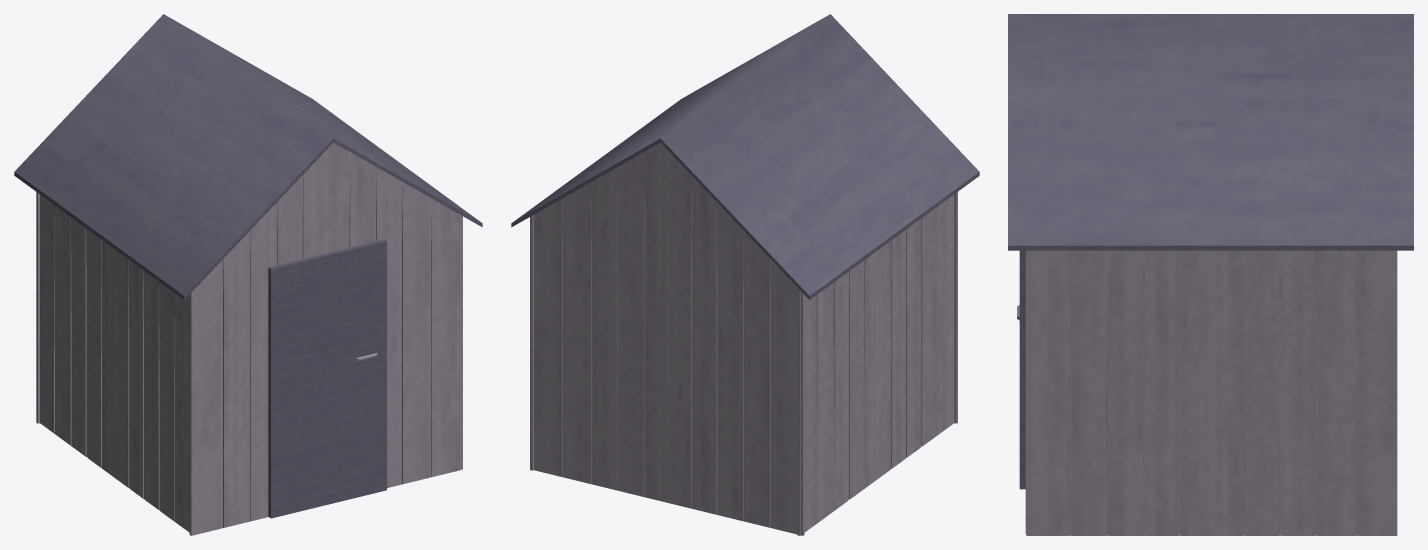
File: Shed.fbx
3 views of the same model, side by side, from view 1: azimuth 30°, elevation 25°; view 2: azimuth 150°, elevation 25°; view 3: azimuth 270°, elevation 25° (orthographic). The views are drawn at different scales.
Visible parts, largest first — view 1: Shed_front, Shed_top, Shed_left, Shed_door, Shed_back, Shed_right; view 2: Shed_back, Shed_top, Shed_left, Shed_right, Shed_front; view 3: Shed_right, Shed_top, Shed_door, Shed_front.
Boxes of the visible parts, x1,y1,x2,y2 form: Shed_front: (189, 142, 460, 535); Shed_top: (14, 14, 482, 299); Shed_left: (40, 195, 189, 532); Shed_door: (268, 239, 386, 518); Shed_back: (36, 192, 39, 423); Shed_right: (460, 215, 462, 469); Shed_back: (534, 142, 804, 535); Shed_top: (511, 14, 979, 299); Shed_left: (797, 194, 954, 535); Shed_right: (530, 215, 533, 470); Shed_front: (954, 192, 957, 423); Shed_right: (1026, 250, 1397, 535); Shed_top: (1008, 14, 1413, 250); Shed_door: (1017, 250, 1025, 489); Shed_front: (1025, 251, 1026, 533).
Bounding box in the file's own units: 2.47 × 2.92 × 2.43.
Materials: 1 (1 with a texture image).
